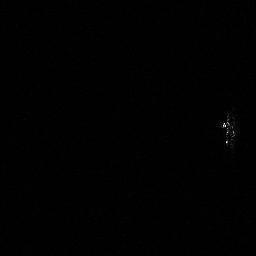ship: (218, 117, 234, 143)
